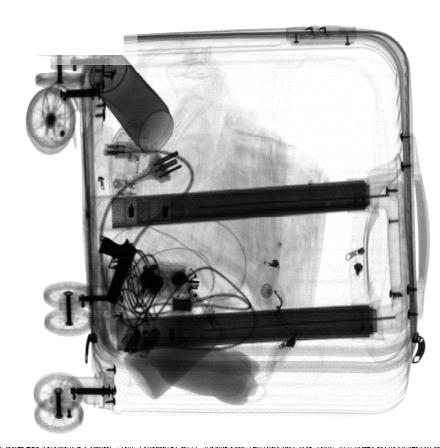Gun: (97, 236, 137, 306)
